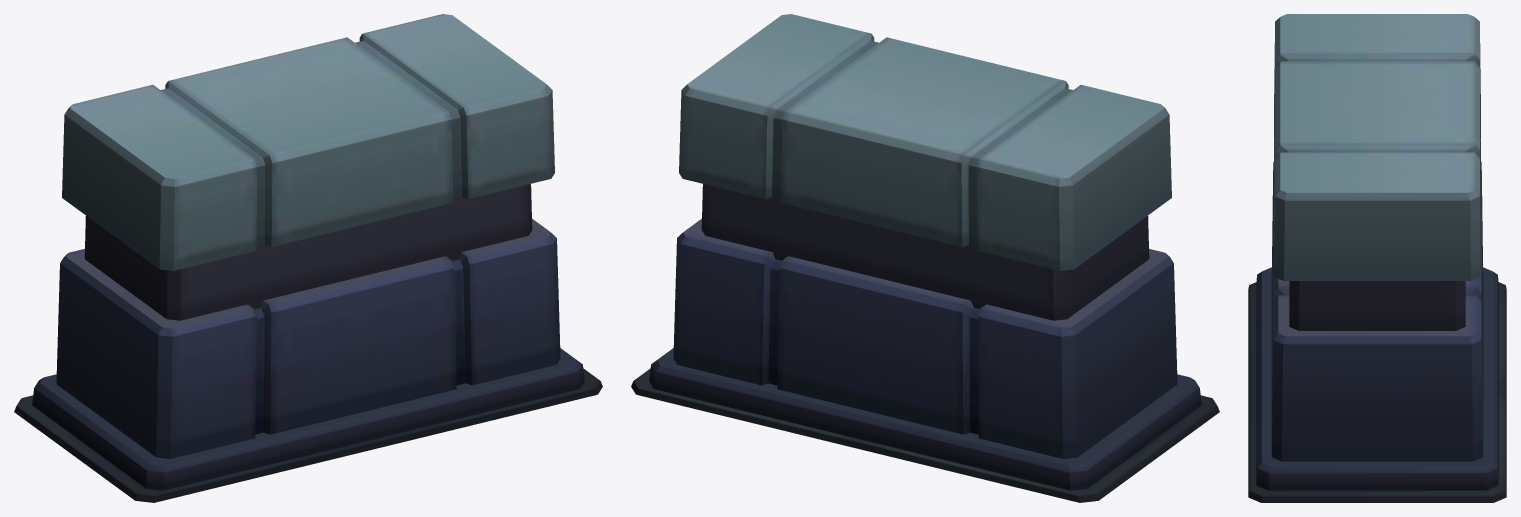
The model's file is [gimmick]battlegate.fbx.
3 renders of one model, left to right at view 1: azimuth 30°, elevation 25°; view 2: azimuth 150°, elevation 25°; view 3: azimuth 270°, elevation 25°, orthographic. The views are drawn at different scales.
Visible parts, largest first — view 1: battlegate, battlegate_base; view 2: battlegate, battlegate_base; view 3: battlegate, battlegate_base.
Boxes of the visible parts, box(x1,y1,x2,y2) form: battlegate: box(32, 14, 584, 490); battlegate_base: box(14, 368, 602, 502); battlegate: box(649, 14, 1201, 490); battlegate_base: box(631, 368, 1219, 502); battlegate: box(1256, 14, 1498, 490); battlegate_base: box(1248, 282, 1506, 502).
Size of the model in its own units: 2.01 by 1.25 by 1.01.
Materials: 1 (1 with a texture image).
